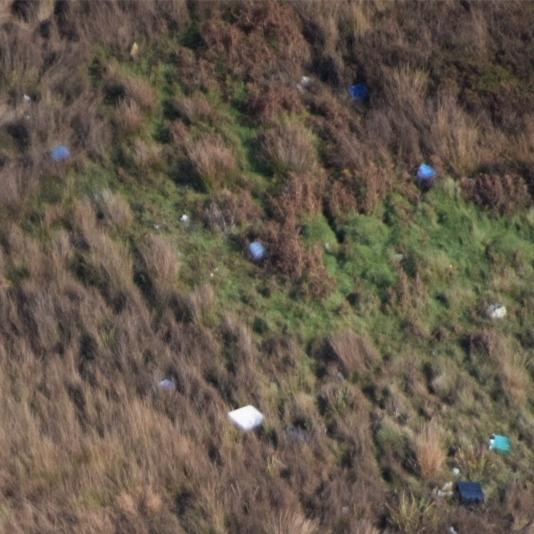scattered_barrel: (23, 30, 534, 513)
